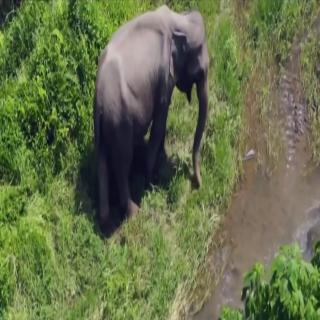Elephant: (92, 4, 216, 242)
